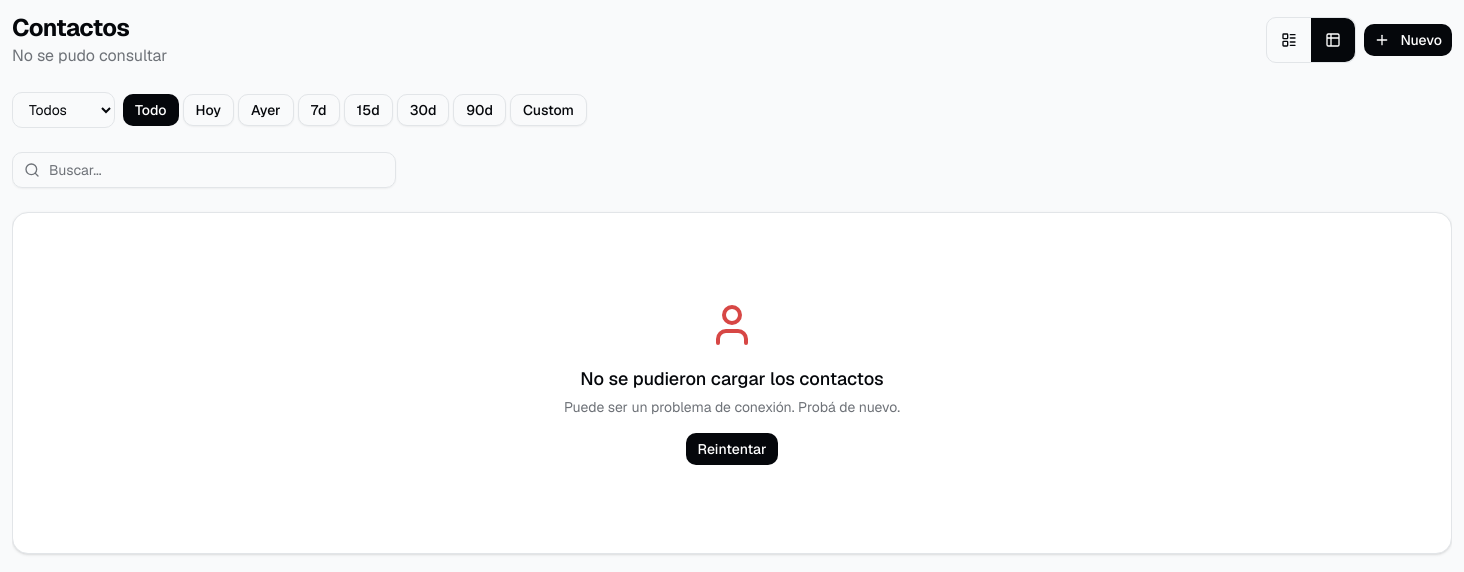
Test case: ContactsPage — la pantalla no puede afirmar lo que no sabe › D9: "Reintentar" vuelve a pedir el listado y la pantalla se recupera
The image size is (1464, 572).
Expected: the heading "No se pudieron cargar los contactos" is shown, 580,365 -> 884,393
Step 1. Click the button "Reintentar" → (732, 449), box 686,433 -> 778,465
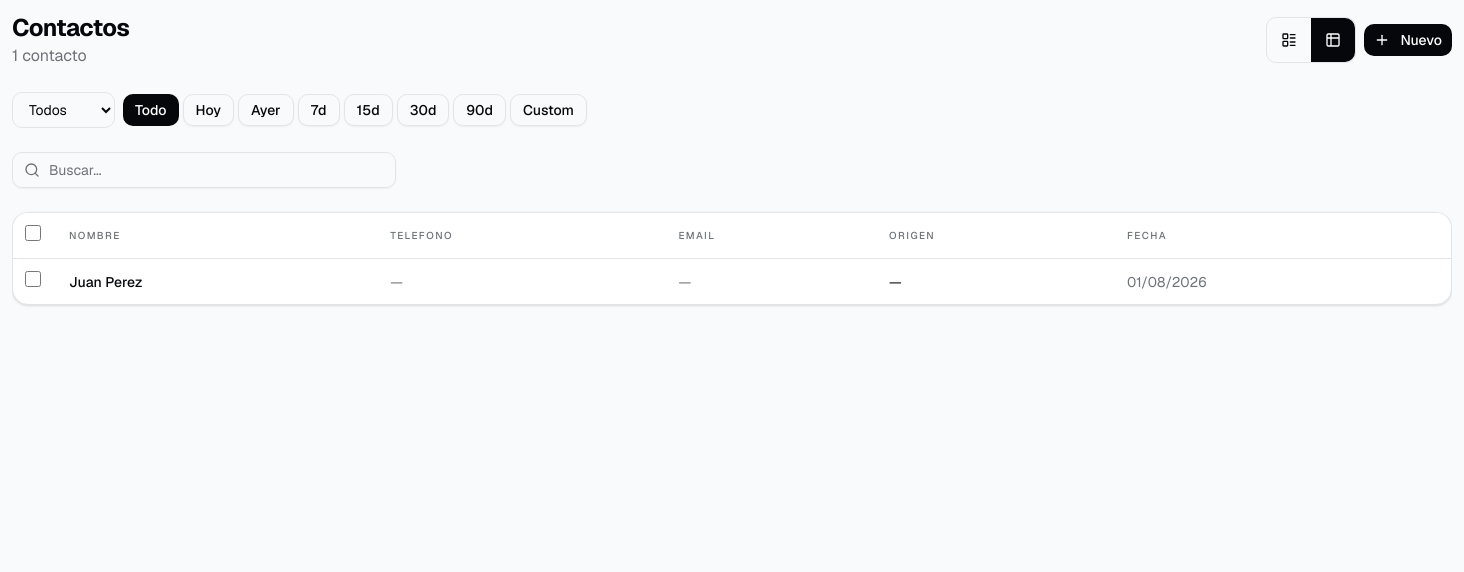
Expected: the text "Juan Perez" is shown, 69,272 -> 142,290
Expected: the heading "No se pudieron cargar los contactos" is gone
Expected: the text "1 contacto" is shown, 12,45 -> 87,66
